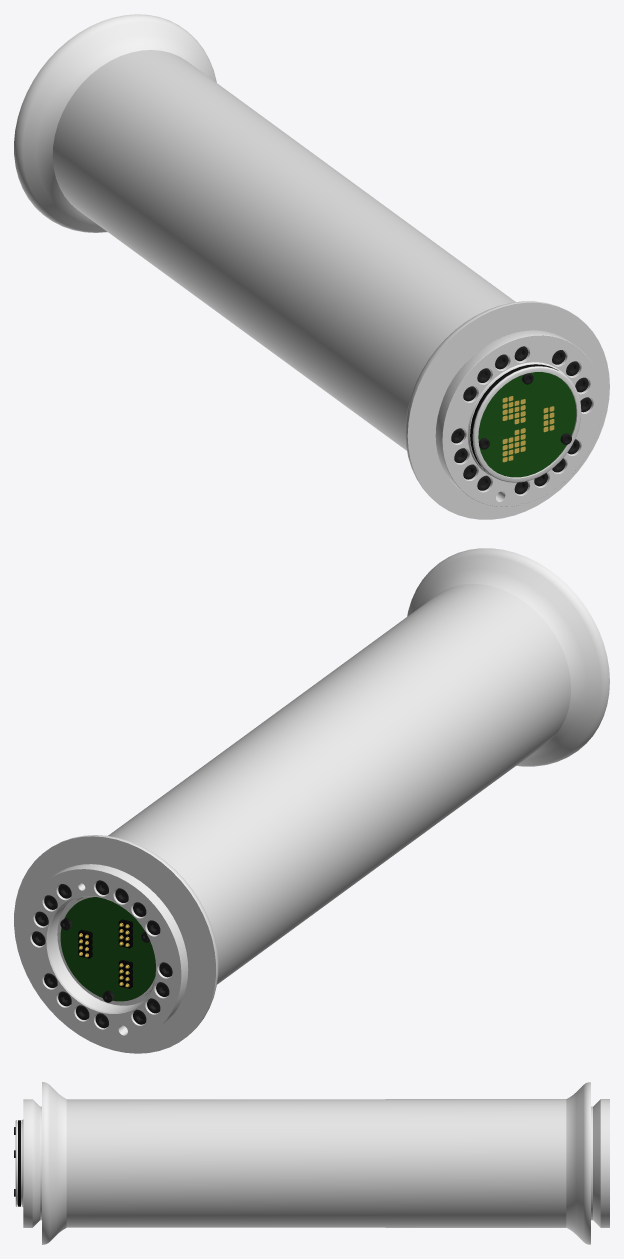
3 renders of one model, top to bottom at view 1: azimuth 30°, elevation 25°; view 2: azimuth 150°, elevation 25°; view 3: azimuth 270°, elevation 25°, orthographic. The views are drawn at different scales.
Parts seen in each view (by area): view 1: I86.001; view 2: I86.001; view 3: I86.001.
Boxes of the visible parts, left/top/right/bottom form: I86.001: left=14, top=14, right=609, bottom=519; I86.001: left=14, top=548, right=609, bottom=1053; I86.001: left=14, top=1082, right=609, bottom=1244.
Bounding box in the file's own units: 0.086 × 0.086 × 0.3148.
